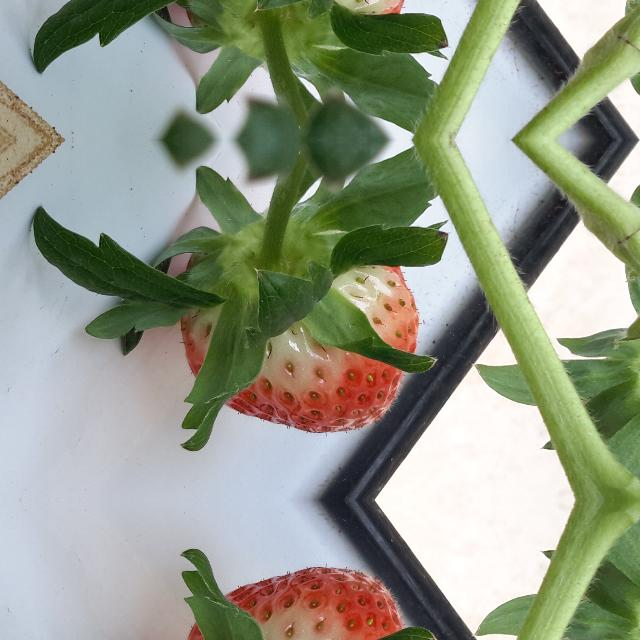Health_100: (180, 252, 418, 436), (180, 564, 418, 640)
